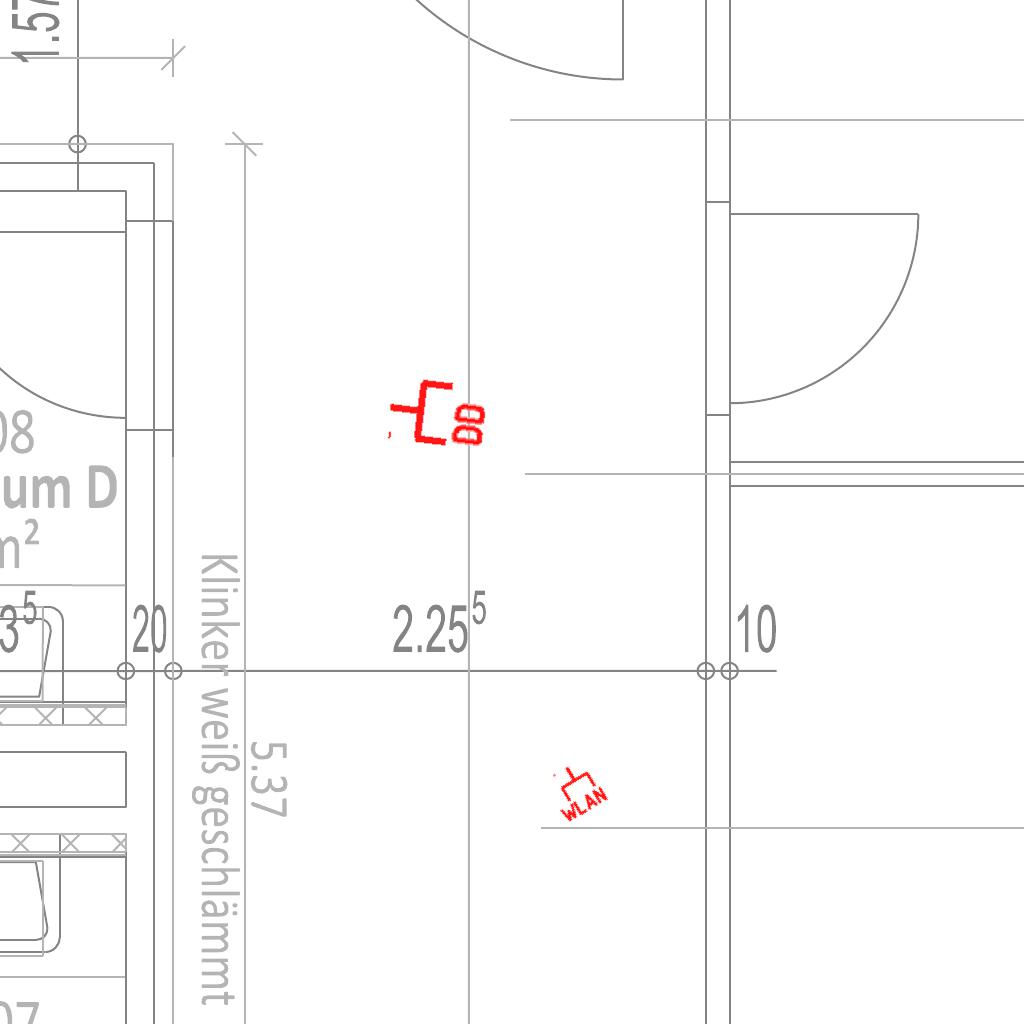Datenanschluss_zweifach: (383, 370, 494, 453)
WLAN: (539, 754, 611, 826)
